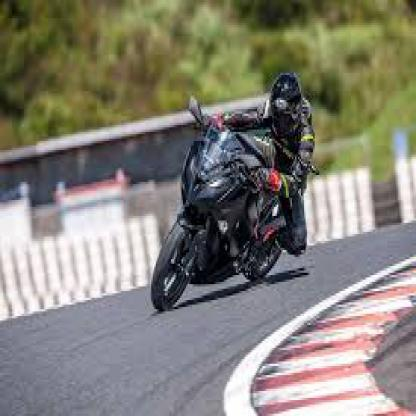Motorcycle: (145, 103, 282, 328)
